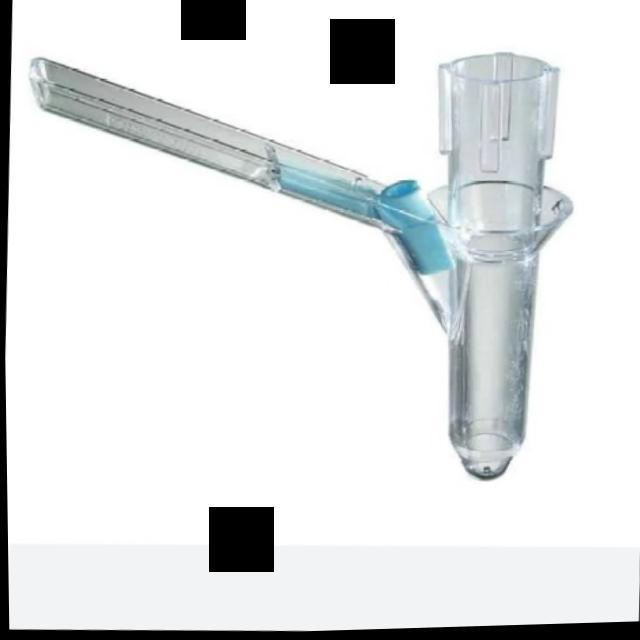Protoscope: (11, 23, 582, 511)
